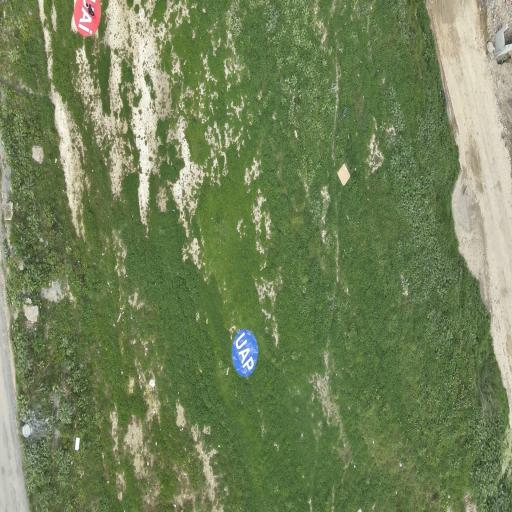UAI: (74, 0, 101, 37)
UAP: (232, 329, 257, 375)
person: (87, 5, 95, 18)
